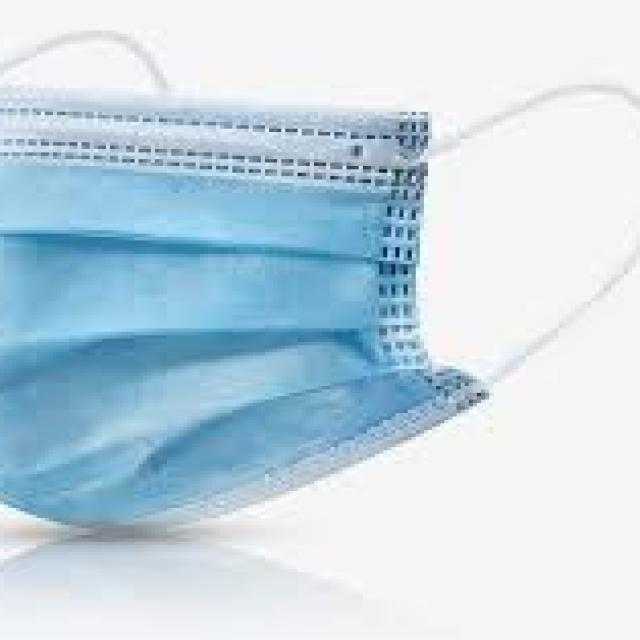organic: (29, 84, 554, 525)
